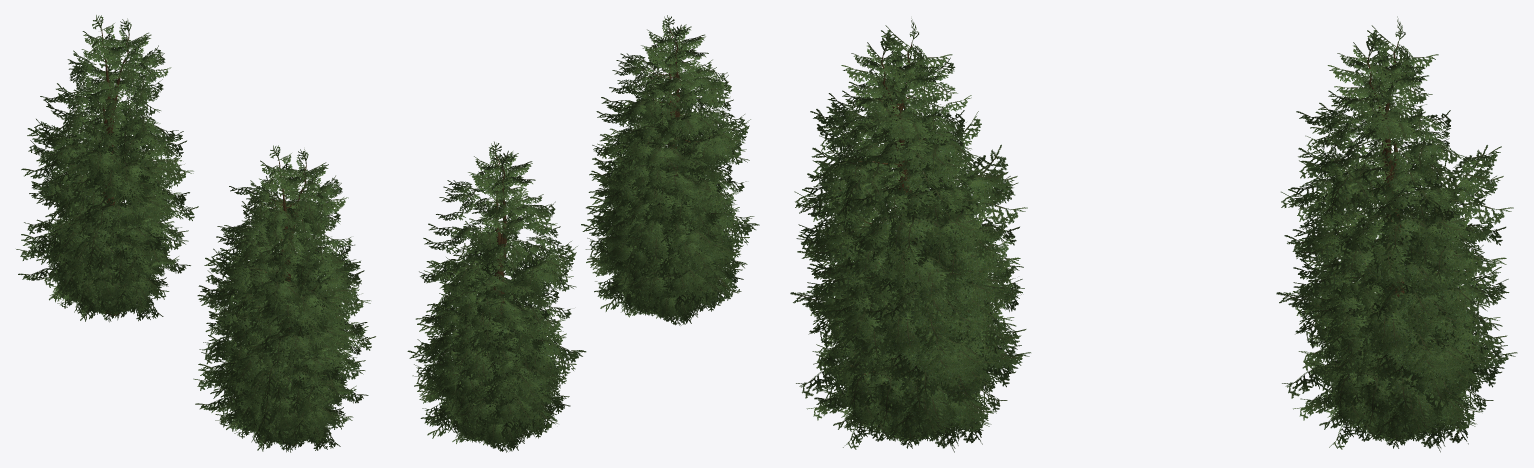
The picture shows the model from 3 angles, left to right: view 1: azimuth 30°, elevation 25°; view 2: azimuth 150°, elevation 25°; view 3: azimuth 270°, elevation 25°; orthographic projection. The views are drawn at different scales.
Visible parts, largest first — view 1: Christmas tree_LOD1_Brunches_Mat_0, Christmas tree_LOD2_Brunches_Mat_0, Christmas tree_2_LOD1_Brunches_Mat_0, Christmas tree_2_LOD2_Brunches_Mat_0, Christmas tree_3_LOD1_Brunches_Mat_0, Christmas tree_3_LOD2_Brunches_Mat_0, Christmas tree_6_LOD2_Brunches_Mat_0, Christmas tree_6_LOD1_Brunches_Mat_0, Christmas tree_4_LOD2_Brunches_Mat_0; view 2: Christmas tree_LOD1_Brunches_Mat_0, Christmas tree_LOD2_Brunches_Mat_0, Christmas tree_2_LOD1_Brunches_Mat_0, Christmas tree_2_LOD2_Brunches_Mat_0, Christmas tree_3_LOD2_Brunches_Mat_0, Christmas tree_3_LOD1_Brunches_Mat_0, Christmas tree_6_LOD2_Brunches_Mat_0, Christmas tree_6_LOD1_Brunches_Mat_0, Christmas tree_5_LOD2_Brunches_Mat_0, Christmas tree_4_LOD2_Brunches_Mat_0, Christmas tree_5_LOD1_Brunches_Mat_0; view 3: Christmas tree_LOD1_Brunches_Mat_0, Christmas tree_2_LOD1_Brunches_Mat_0, Christmas tree_LOD2_Brunches_Mat_0, Christmas tree_2_LOD2_Brunches_Mat_0, Christmas tree_3_LOD2_Brunches_Mat_0, Christmas tree_3_LOD1_Brunches_Mat_0, Christmas tree_6_LOD2_Brunches_Mat_0, Christmas tree_6_LOD1_Brunches_Mat_0, Christmas tree_4_LOD2_Brunches_Mat_0.
Boxes of the visible parts, x1,y1,x2,y2 form: Christmas tree_LOD1_Brunches_Mat_0: [193, 145, 375, 445]; Christmas tree_LOD2_Brunches_Mat_0: [16, 15, 198, 315]; Christmas tree_2_LOD1_Brunches_Mat_0: [197, 149, 365, 420]; Christmas tree_2_LOD2_Brunches_Mat_0: [21, 18, 188, 282]; Christmas tree_3_LOD1_Brunches_Mat_0: [209, 186, 365, 449]; Christmas tree_3_LOD2_Brunches_Mat_0: [32, 58, 188, 320]; Christmas tree_6_LOD2_Brunches_Mat_0: [39, 106, 190, 321]; Christmas tree_6_LOD1_Brunches_Mat_0: [216, 237, 368, 452]; Christmas tree_4_LOD2_Brunches_Mat_0: [61, 187, 153, 314]; Christmas tree_LOD1_Brunches_Mat_0: [581, 24, 759, 318]; Christmas tree_LOD2_Brunches_Mat_0: [407, 150, 586, 444]; Christmas tree_2_LOD1_Brunches_Mat_0: [586, 15, 756, 286]; Christmas tree_2_LOD2_Brunches_Mat_0: [414, 141, 583, 413]; Christmas tree_3_LOD2_Brunches_Mat_0: [419, 187, 570, 447]; Christmas tree_3_LOD1_Brunches_Mat_0: [592, 60, 743, 320]; Christmas tree_6_LOD2_Brunches_Mat_0: [417, 234, 570, 451]; Christmas tree_6_LOD1_Brunches_Mat_0: [590, 109, 743, 324]; Christmas tree_5_LOD2_Brunches_Mat_0: [449, 318, 538, 452]; Christmas tree_4_LOD2_Brunches_Mat_0: [442, 319, 541, 450]; Christmas tree_5_LOD1_Brunches_Mat_0: [623, 213, 708, 325]; Christmas tree_LOD1_Brunches_Mat_0: [790, 18, 1030, 443]; Christmas tree_2_LOD1_Brunches_Mat_0: [794, 33, 1027, 401]; Christmas tree_LOD2_Brunches_Mat_0: [1276, 16, 1517, 442]; Christmas tree_2_LOD2_Brunches_Mat_0: [1281, 32, 1513, 389]; Christmas tree_3_LOD2_Brunches_Mat_0: [1287, 79, 1509, 444]; Christmas tree_3_LOD1_Brunches_Mat_0: [801, 80, 1022, 443]; Christmas tree_6_LOD2_Brunches_Mat_0: [1293, 146, 1501, 452]; Christmas tree_6_LOD1_Brunches_Mat_0: [806, 146, 1015, 452]; Christmas tree_4_LOD2_Brunches_Mat_0: [1323, 266, 1461, 445].
Size of the model in its own units: 5.25 by 9.32 by 15.04.
2 materials, 2 textured.
